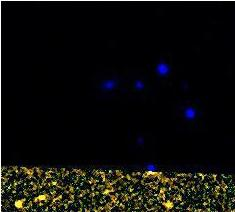star: (152, 190, 182, 212)
